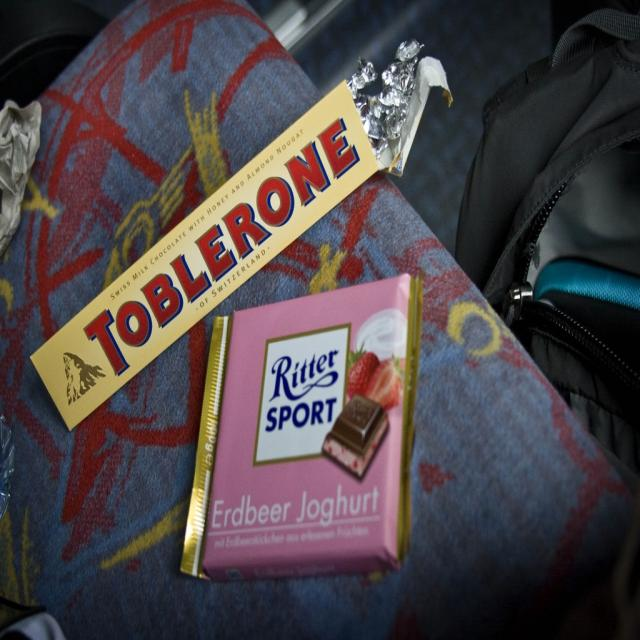rittersport: (254, 326, 351, 469)
